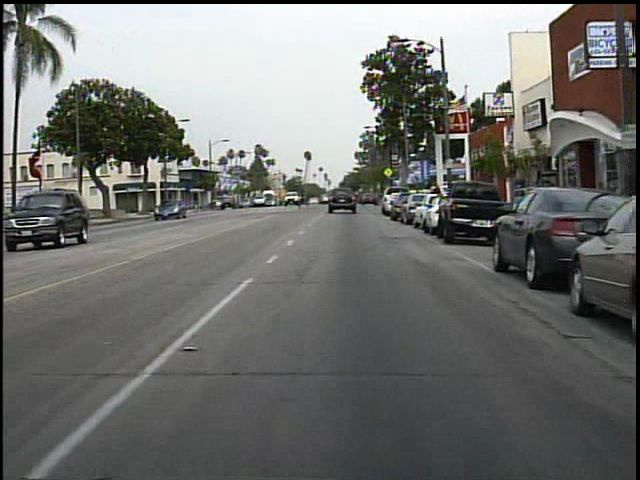person: (428, 180, 448, 218), (297, 185, 312, 213)
